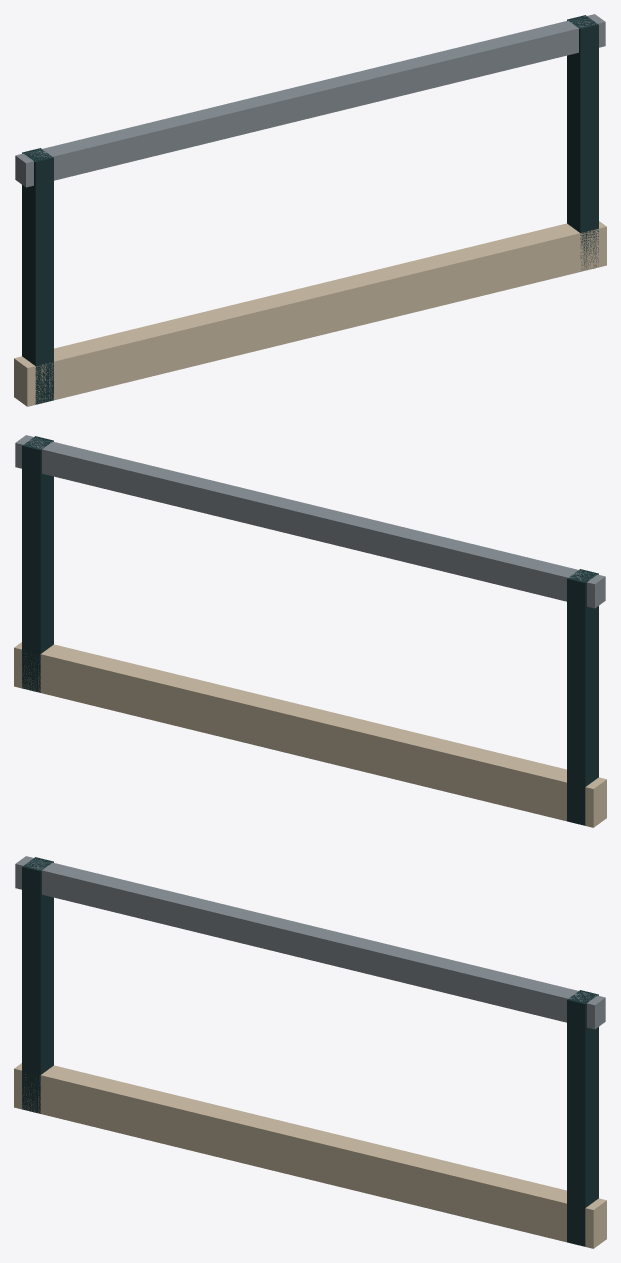
Rendered from visitor_rail.fbx.
The picture shows the model from 3 angles, top to bottom: view 1: azimuth 30°, elevation 25°; view 2: azimuth 150°, elevation 25°; view 3: azimuth 330°, elevation 25°; orthographic projection.
Visible parts, largest first — view 1: visitor_rail; view 2: visitor_rail; view 3: visitor_rail.
Boxes of the visible parts, bbox=[...] form: visitor_rail: bbox=[14, 14, 606, 406]; visitor_rail: bbox=[14, 435, 606, 827]; visitor_rail: bbox=[14, 856, 606, 1248].
Bounding box in the file's own units: 2.5 × 1 × 0.1.
